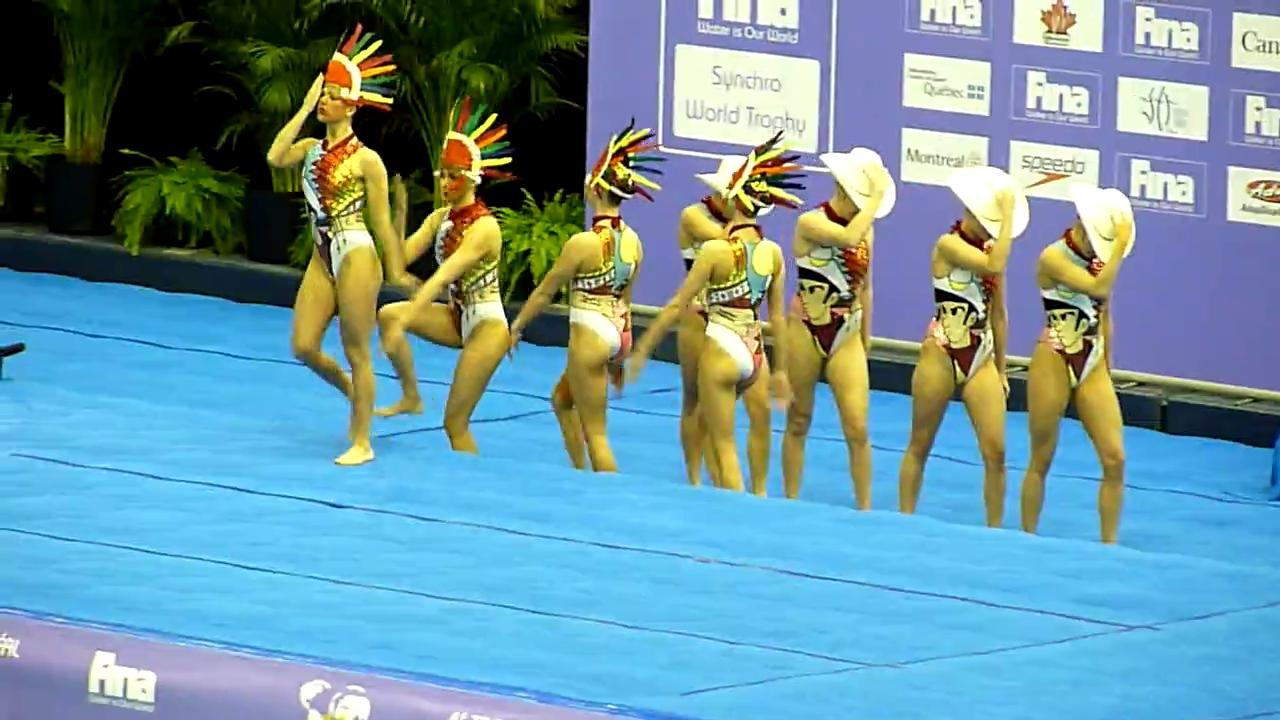victim: (259, 47, 407, 470), (371, 119, 516, 472), (1020, 182, 1155, 552), (626, 172, 774, 506), (501, 140, 644, 481), (892, 172, 1019, 530), (778, 156, 899, 525)
